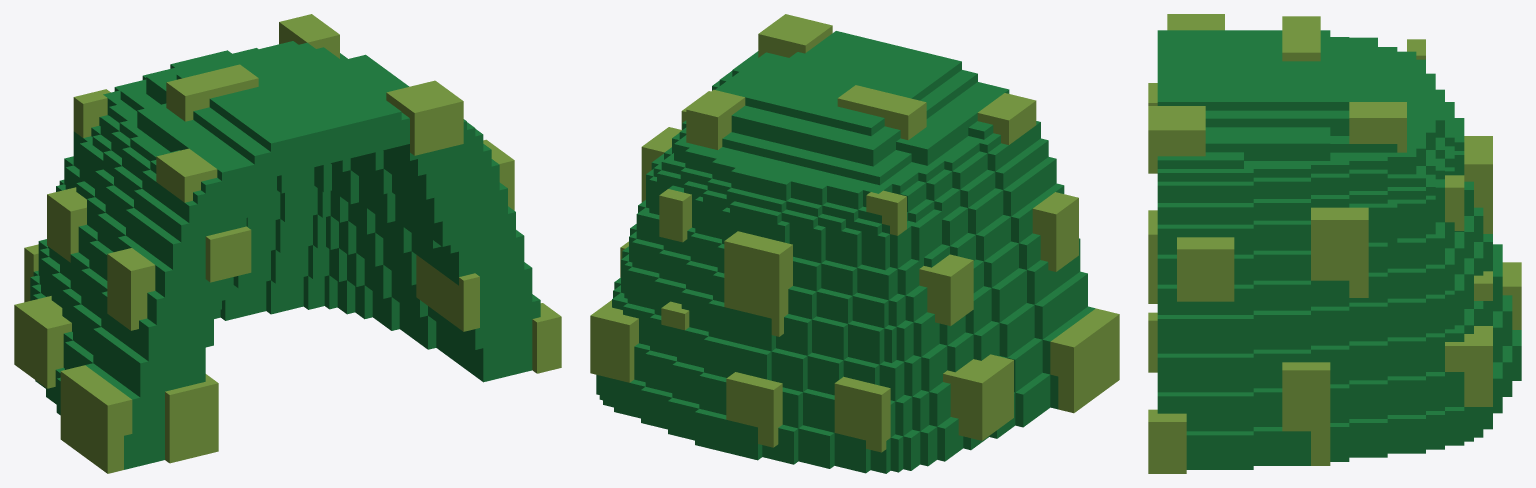
The model's file is Arbusto.obj.
3 renders of one model, left to right at view 1: azimuth 30°, elevation 25°; view 2: azimuth 150°, elevation 25°; view 3: azimuth 270°, elevation 25°, orthographic. The views are drawn at different scales.
Bounding box in the file's own units: 5.5 × 3.5 × 3.9.
Materials: 1 (1 with a texture image).
